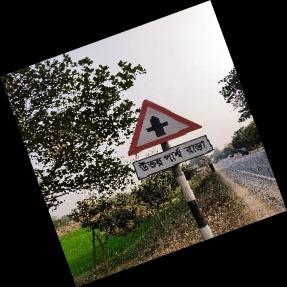Crossroad: (126, 99, 217, 180)
